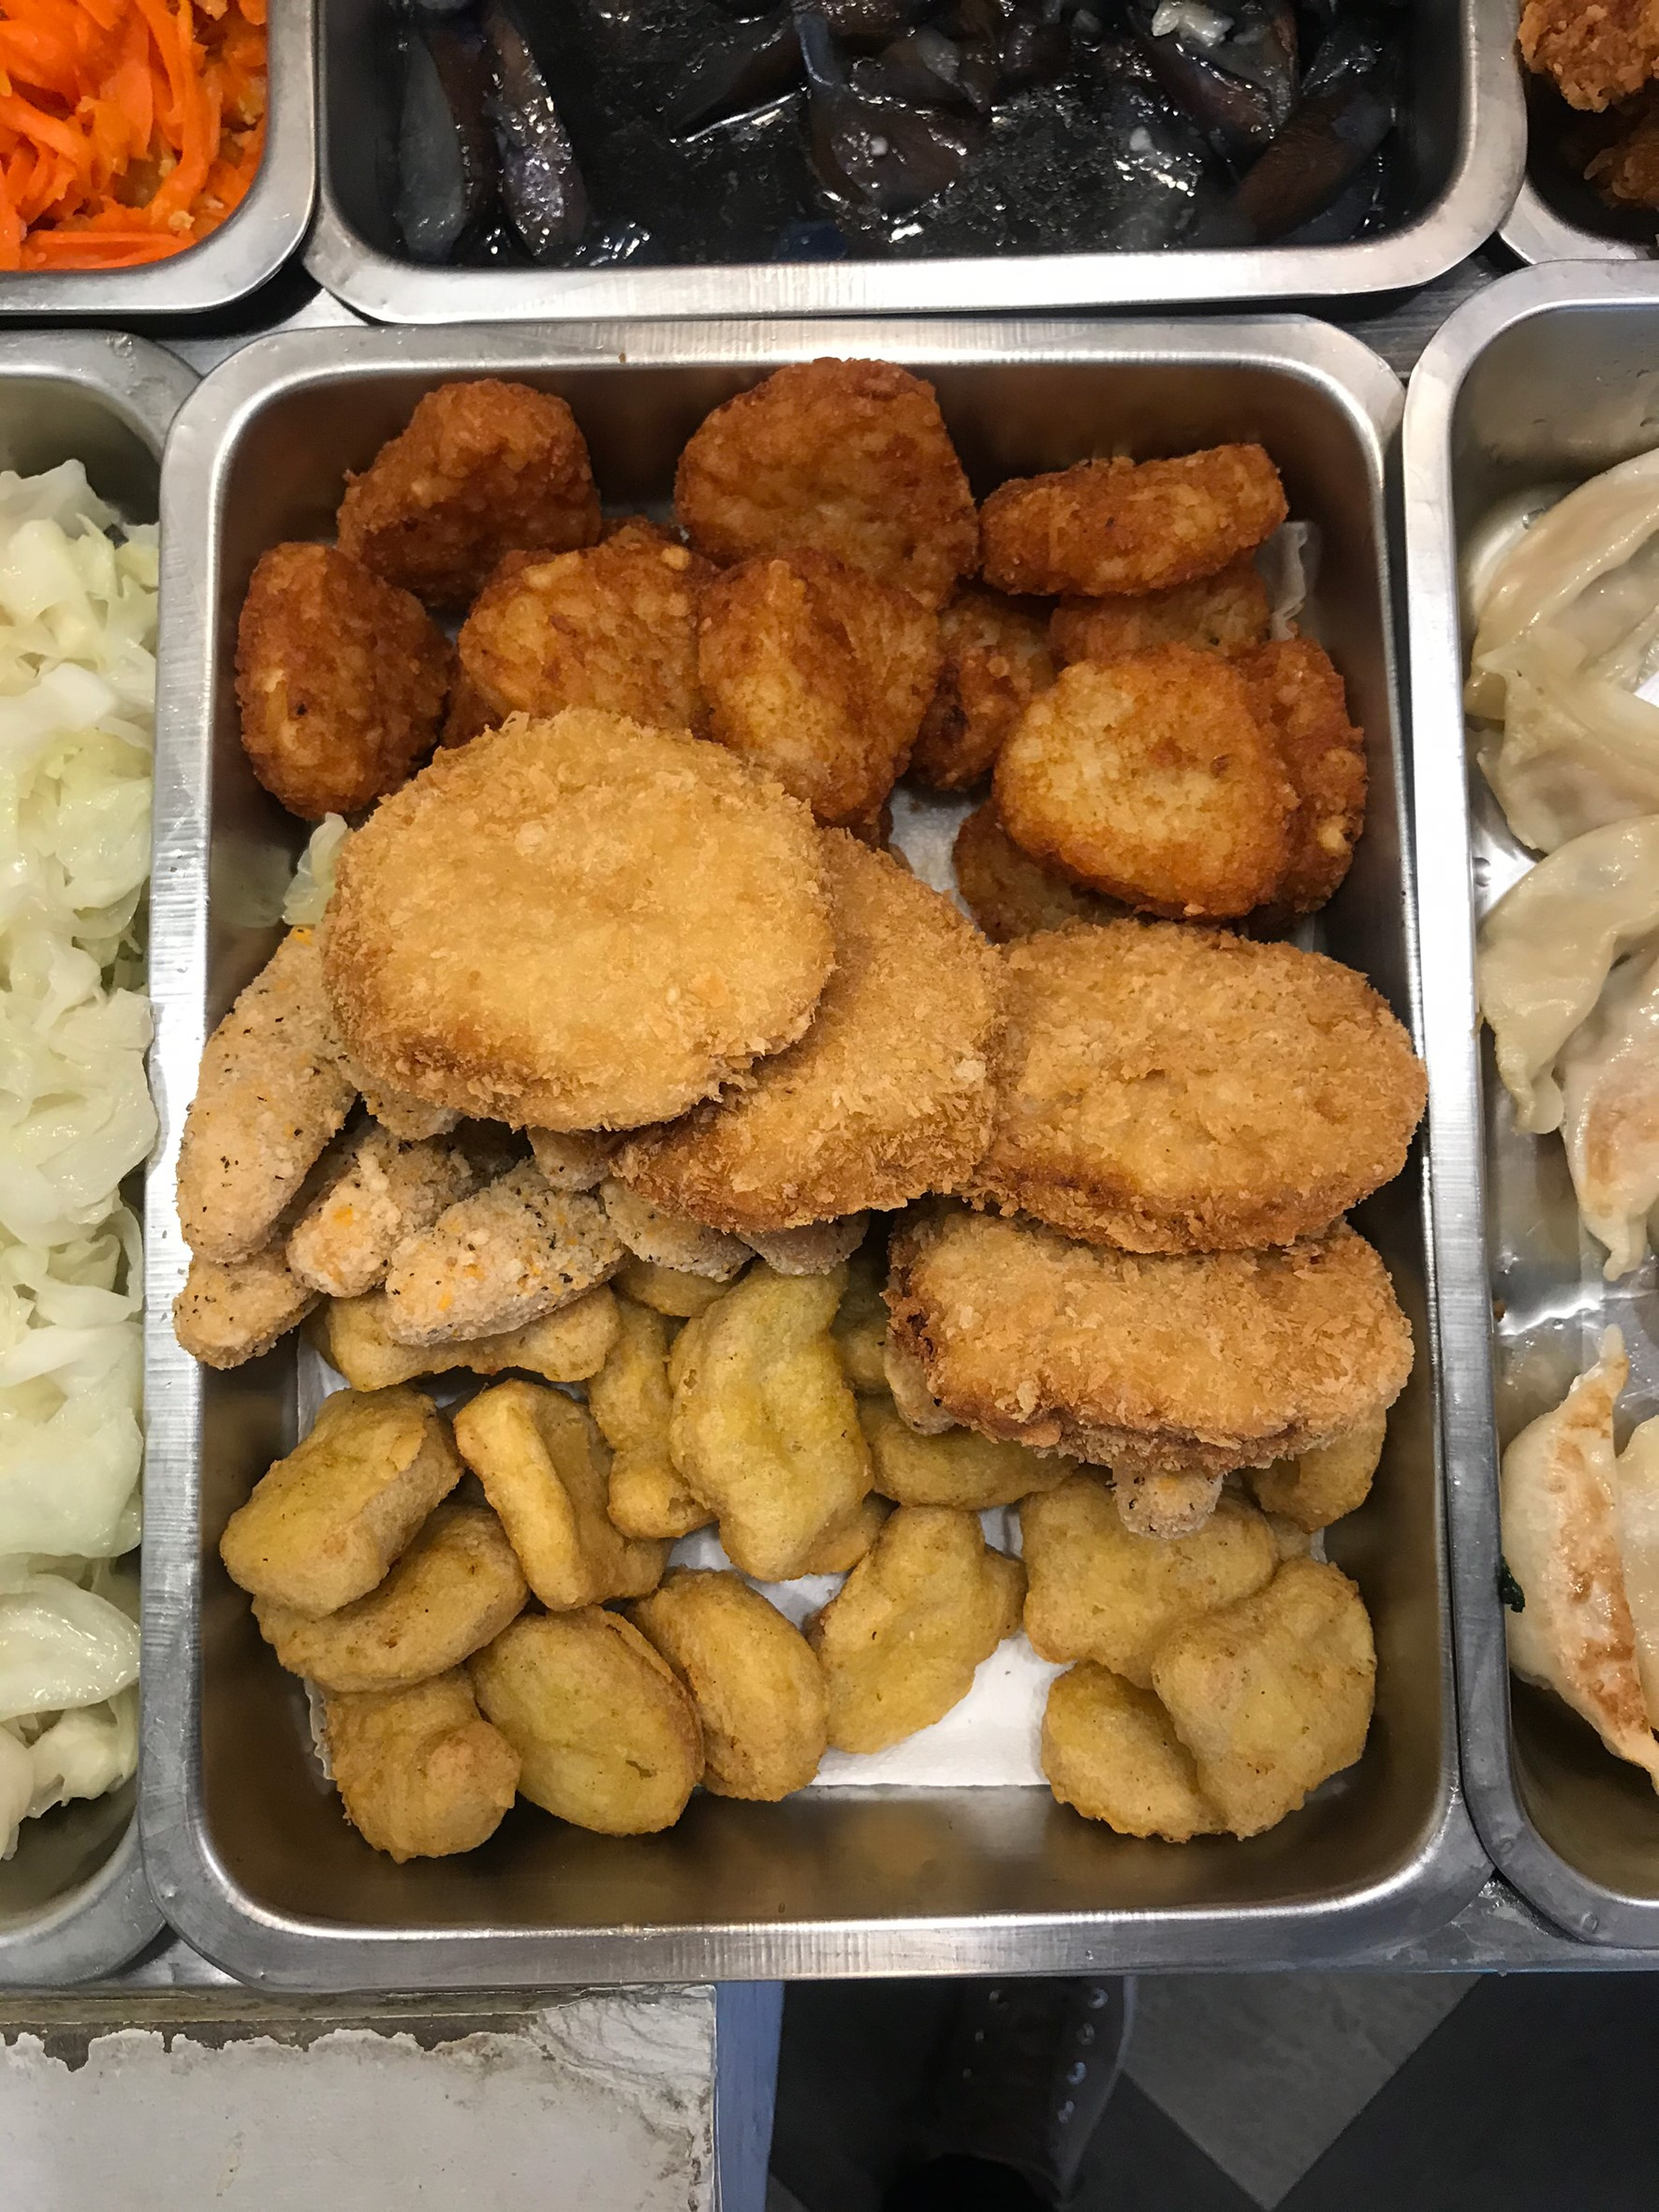carrot_eggs: (2, 2, 263, 267)
chicken_nuggets: (225, 1374, 1378, 1858)
chinese_cabbage: (2, 455, 138, 1825)
fried_dumplings: (1478, 444, 1659, 1292), (1509, 1332, 1659, 1780)
triangle_hash_brown: (228, 373, 1373, 922)
